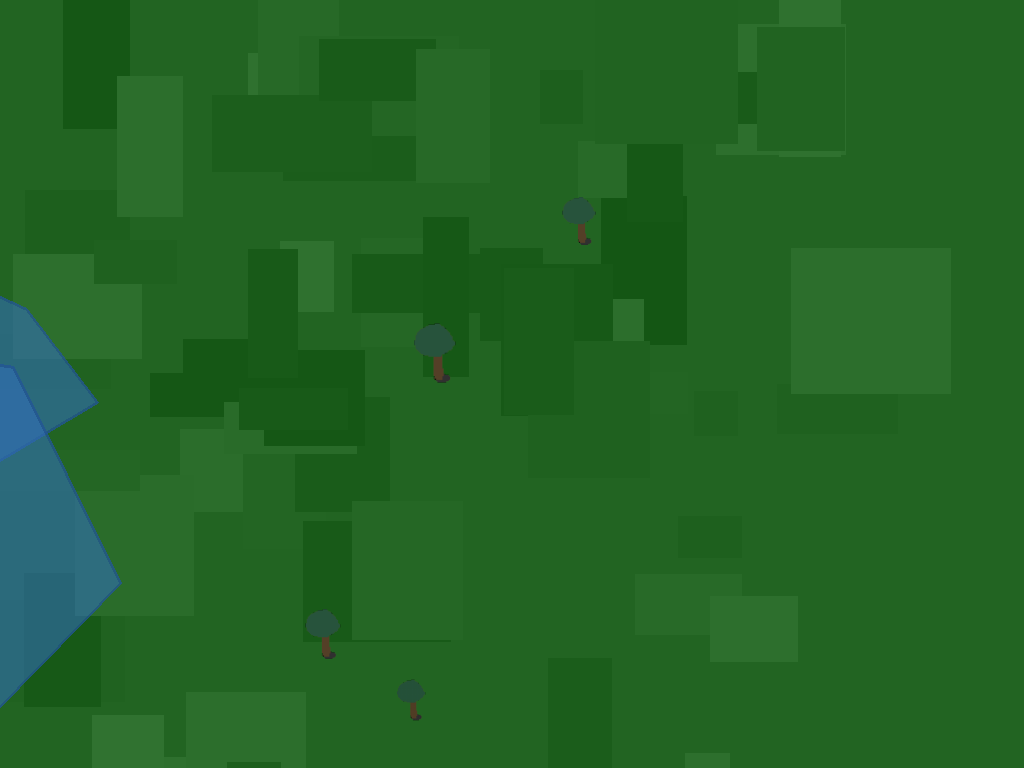Lake: (0, 329, 120, 768), (0, 224, 97, 521)
